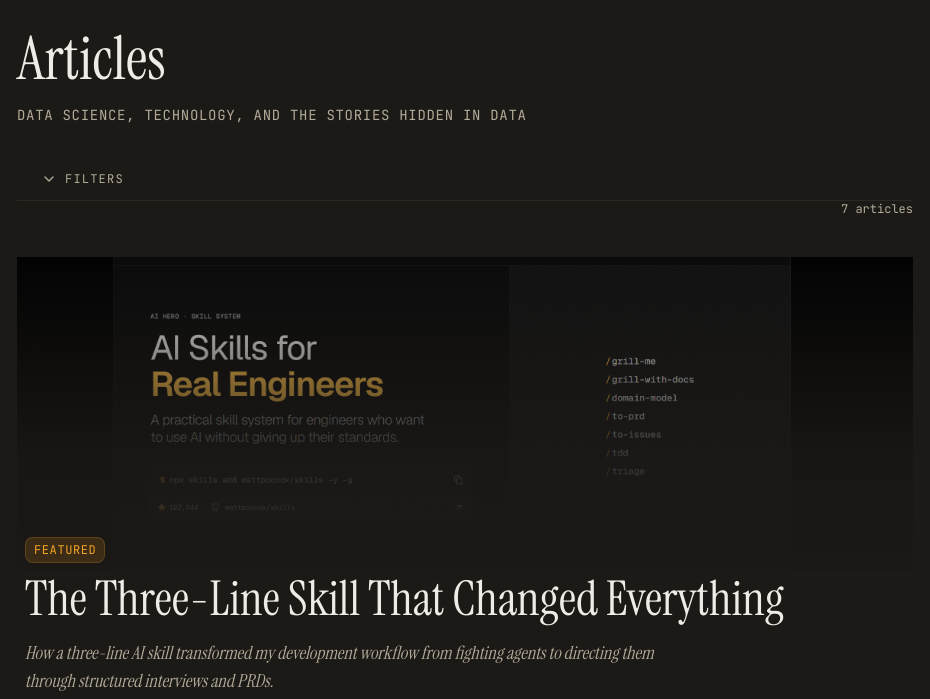
Scenario: Articles page - filters › clicking a chip filters interactively and clear resets
The image size is (930, 699).
Click the button "Filters". click: (94, 178)
box: [17,157,913,201]
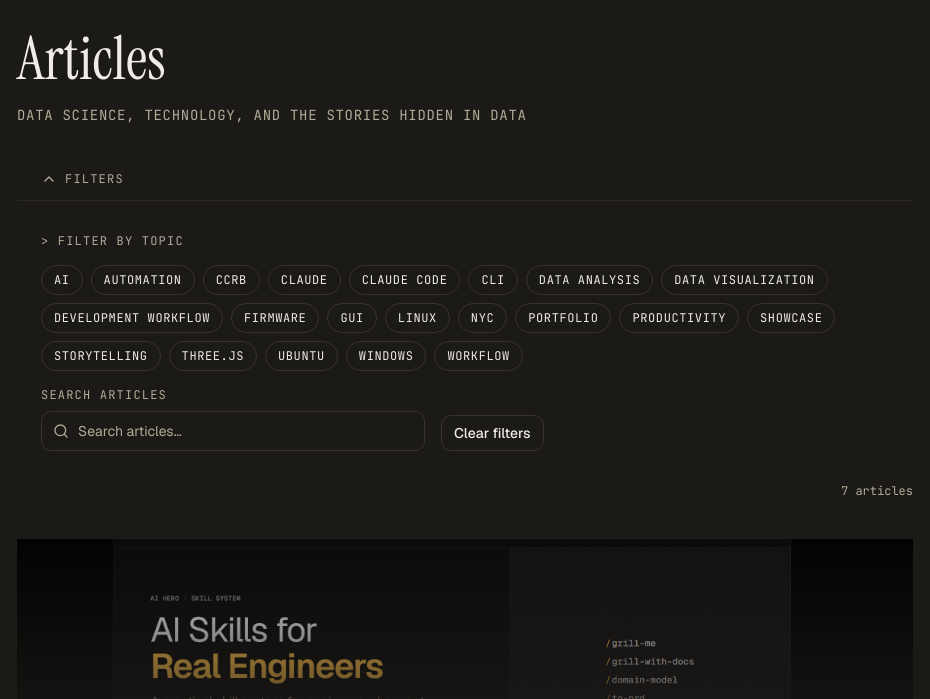
Click the button with aria-label "Filter by AI". click: (62, 280)
box: [41,265,83,295]
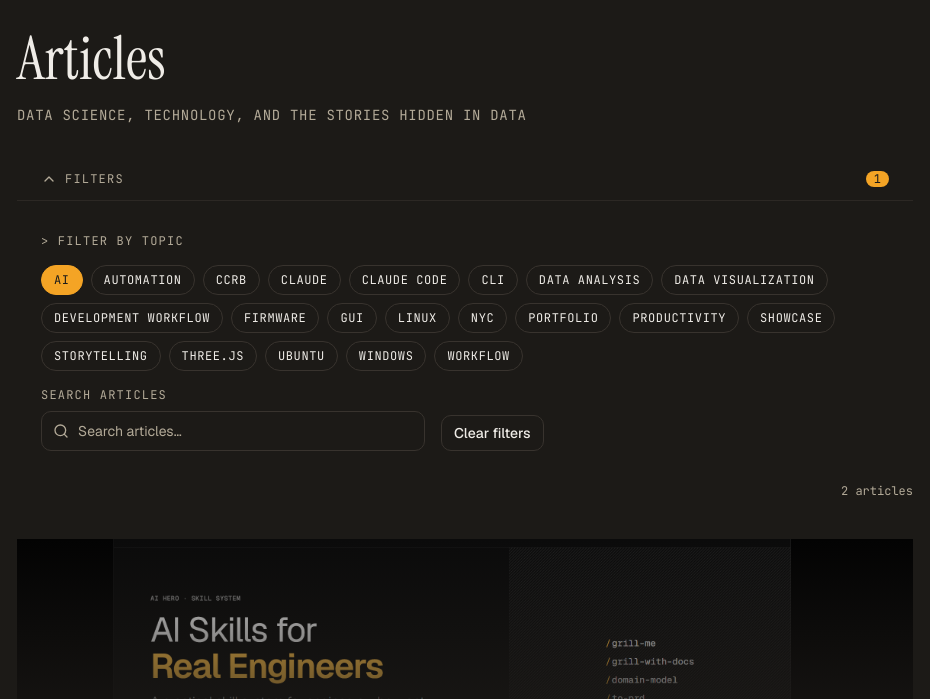
expect the text "Technical Blog 3: The Wonderful World of Windows Registry" is not shown: met
Click the button "Clear filters". click: (492, 433)
box: [441,415,544,451]
(page scrolled)
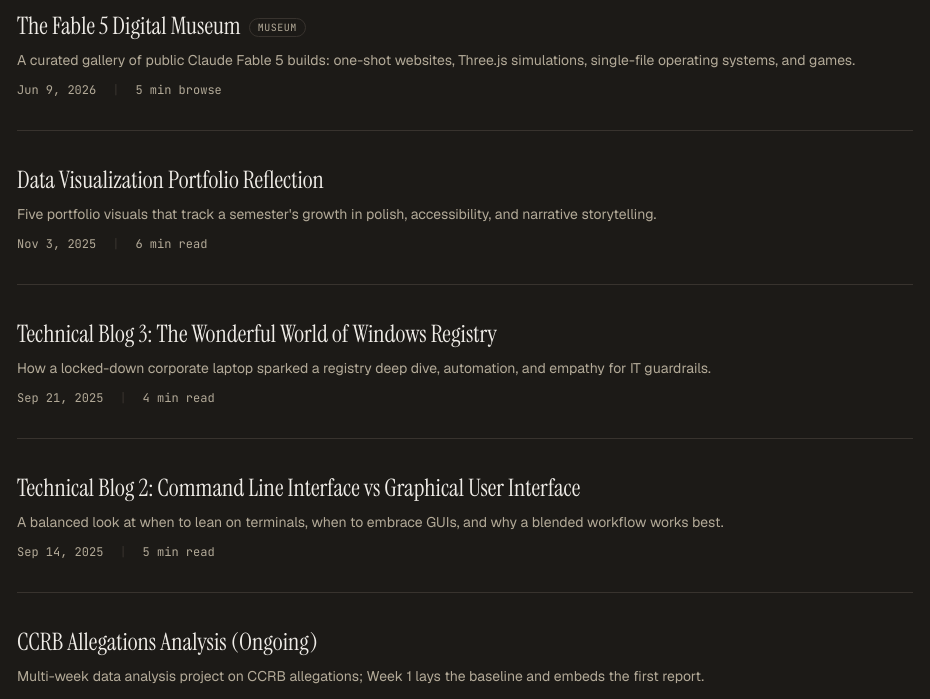
expect the heading "Technical Blog 3: The Wonderful World of Windows Registry" is shown: met, box [17,318,497,349]
